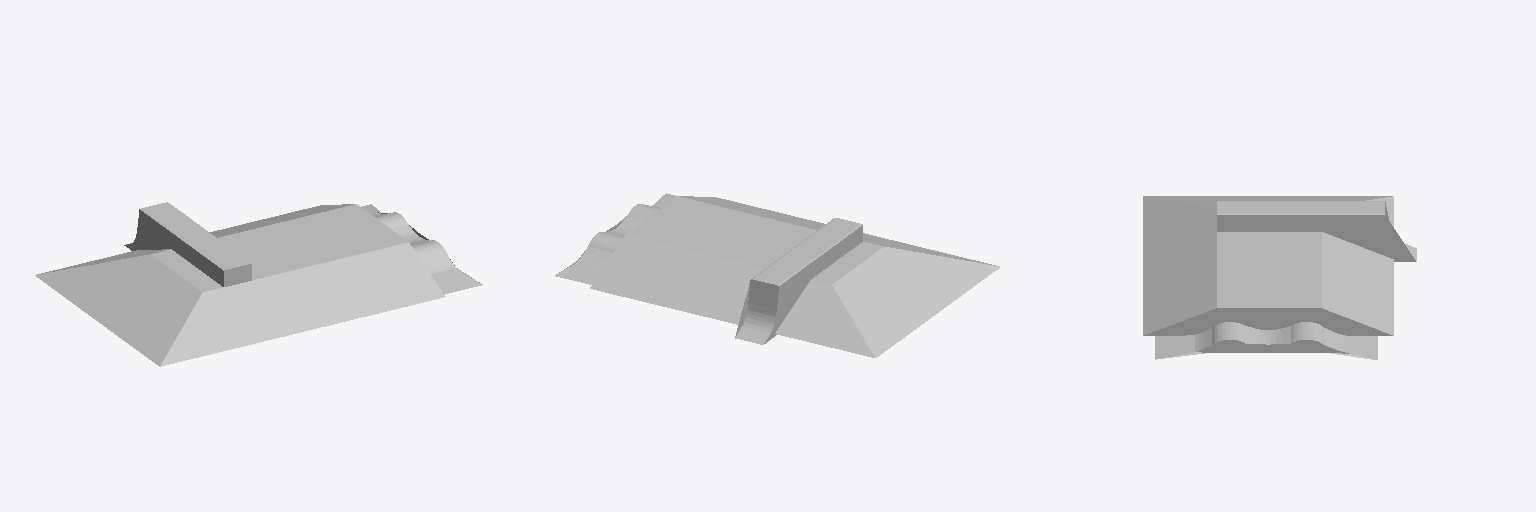
Rendered from piramide.obj.
The picture shows the model from 3 angles: view 1: azimuth 30°, elevation 25°; view 2: azimuth 150°, elevation 25°; view 3: azimuth 270°, elevation 25°; orthographic projection.
Parts seen in each view (by area): view 1: Cylinder; view 2: Cylinder; view 3: Cylinder.
Boxes of the visible parts, x1,y1,x2,y2 form: Cylinder: [35, 202, 482, 366]; Cylinder: [555, 193, 999, 357]; Cylinder: [1143, 196, 1416, 359].
Bounding box in the file's own units: 8.42 × 1.18 × 6.05.